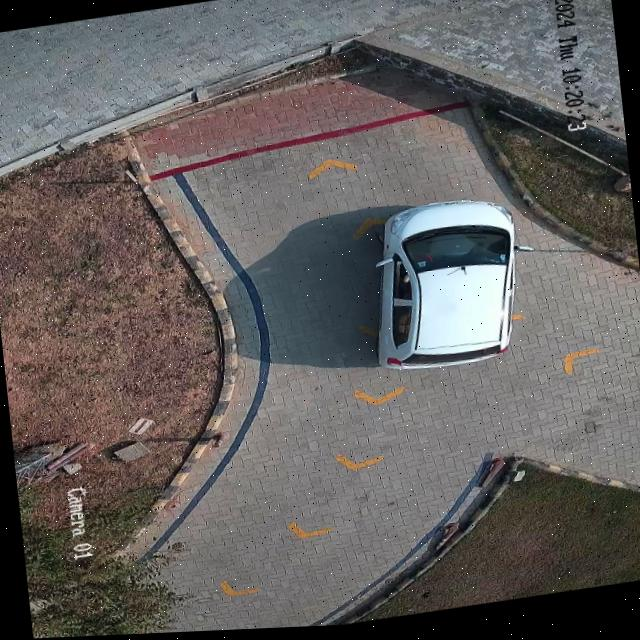car: (377, 204, 517, 374)
